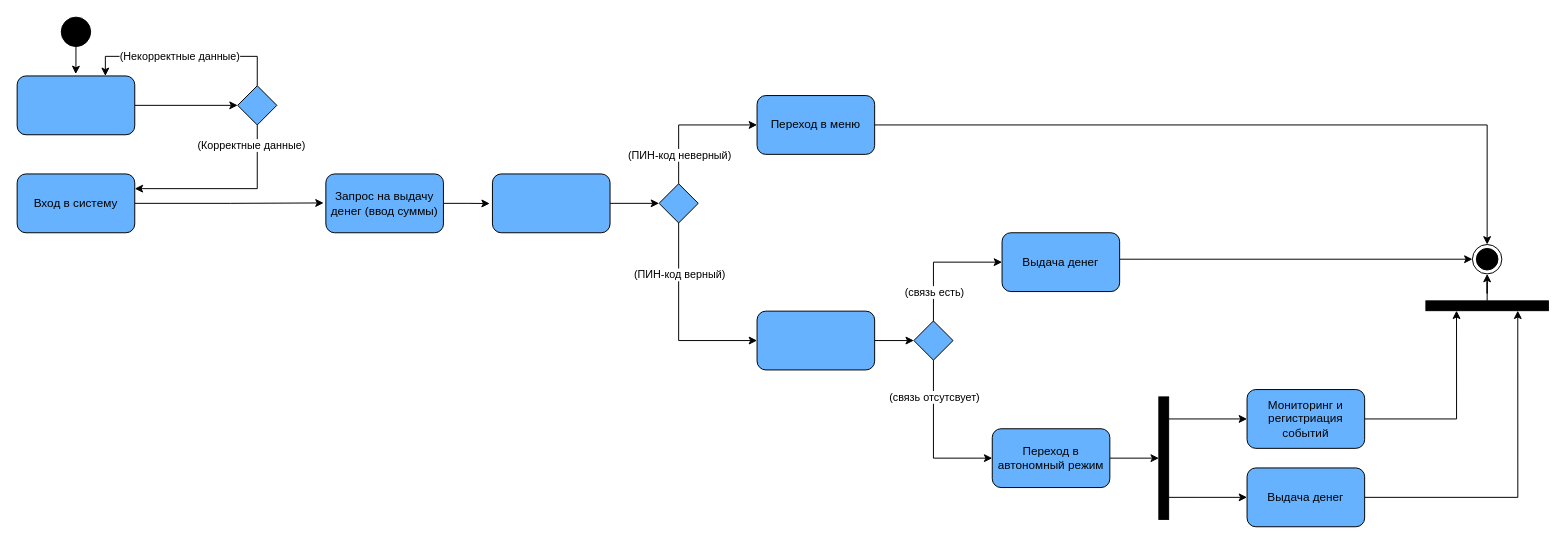
Some shapes in this 1566 by 544 pixel diagram are drawn without their labels. The shapes that lost their labels are listed below. From the top down, each one's centre as x and y in pixels, then its label:
the point at 75,105: Авторизация клиента
the point at 550,203: Ввод ПИН-кода
the point at 815,340: Проверка связи с серверами
